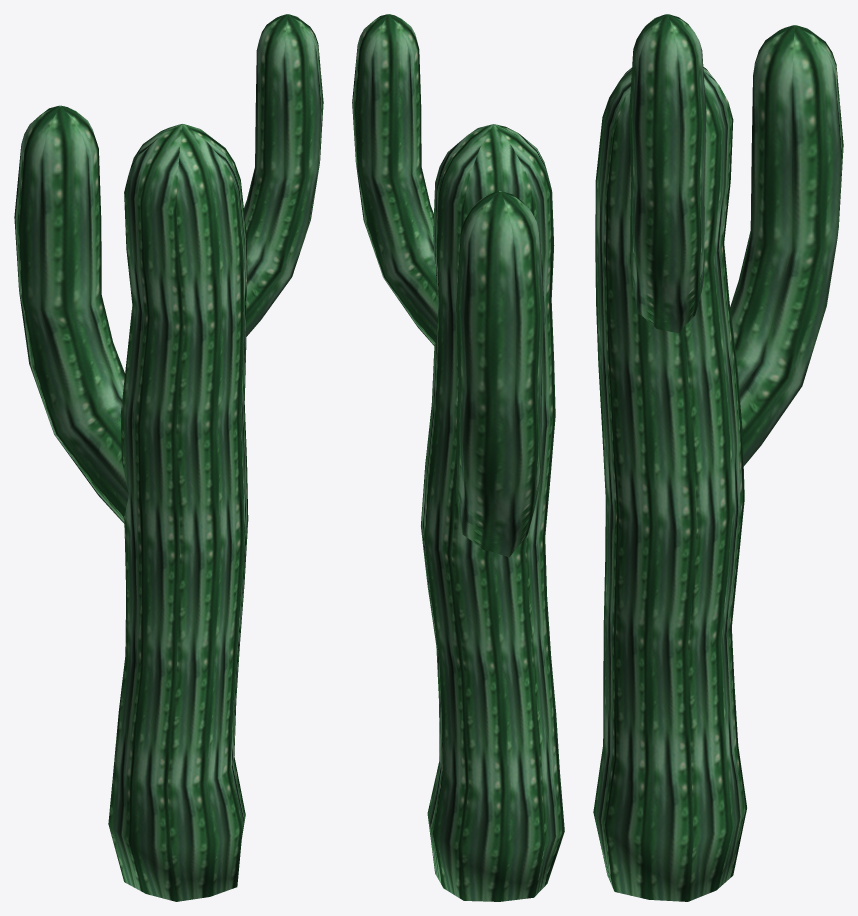
Rendered from cactus-03.fbx.
3 renders of one model, left to right at view 1: azimuth 30°, elevation 25°; view 2: azimuth 150°, elevation 25°; view 3: azimuth 270°, elevation 25°, orthographic. The views are drawn at different scales.
Parts seen in each view (by area): view 1: Cube.081_Cube.004_Cube.081_Cube.002; view 2: Cube.081_Cube.004_Cube.081_Cube.002; view 3: Cube.081_Cube.004_Cube.081_Cube.002.
Boxes of the visible parts, x1,y1,x2,y2 form: Cube.081_Cube.004_Cube.081_Cube.002: (14,14,323,901); Cube.081_Cube.004_Cube.081_Cube.002: (352,14,564,901); Cube.081_Cube.004_Cube.081_Cube.002: (593,14,843,901).
Bounding box in the file's own units: 0.686 × 2.3 × 0.5674.
